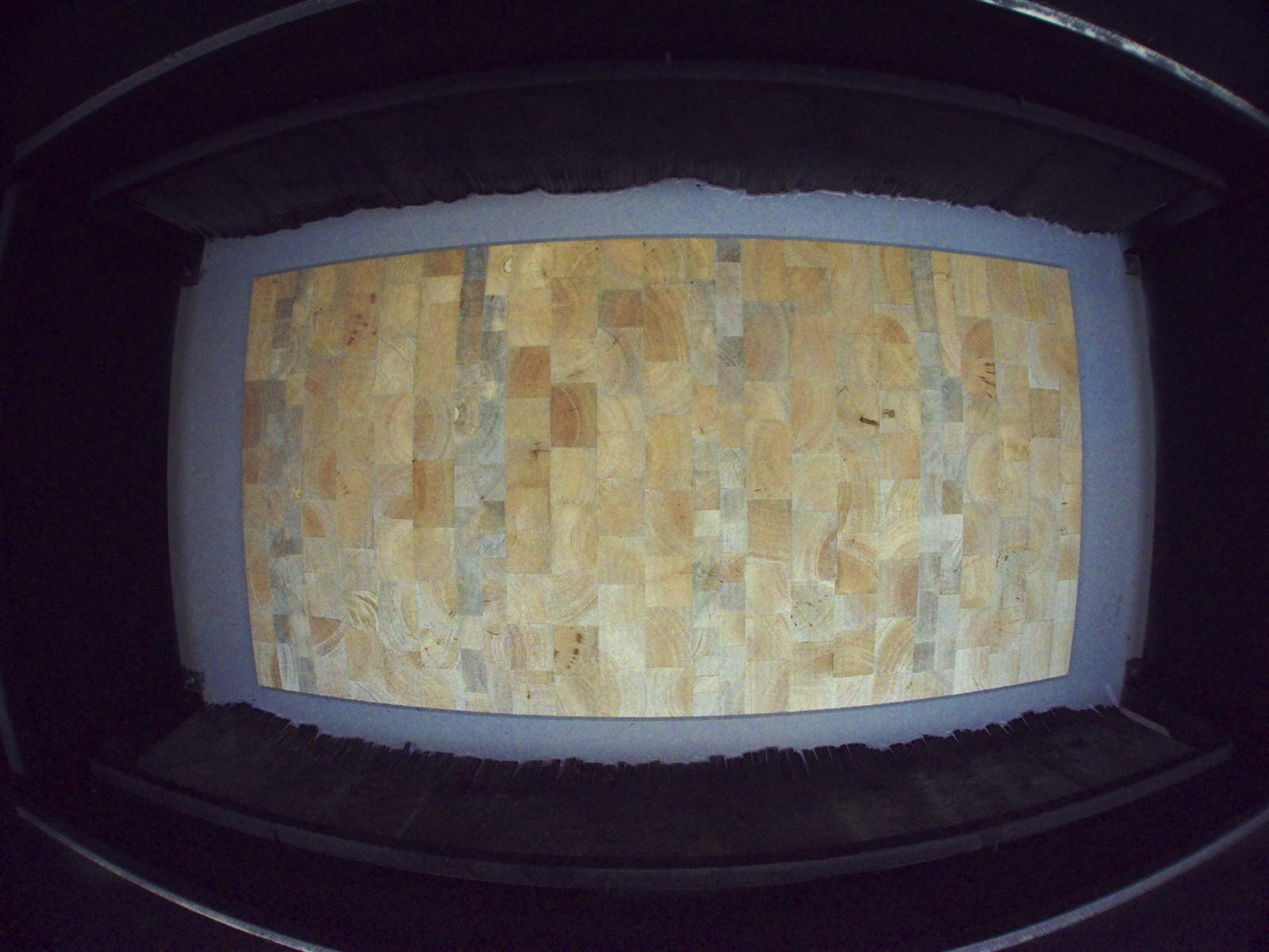nudillo: (858, 413, 879, 428)
